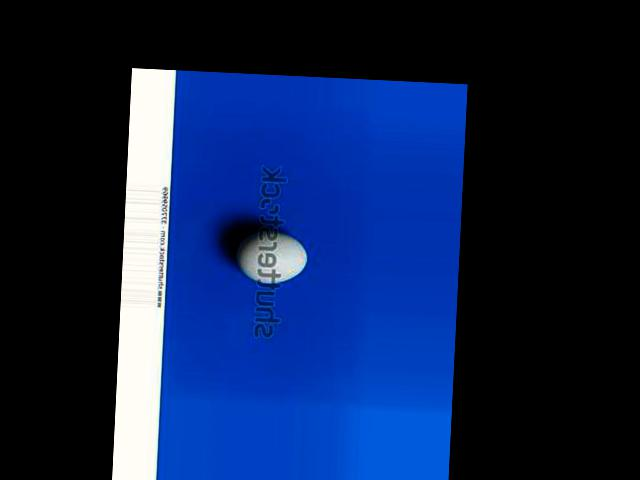egg: (234, 229, 310, 283)
